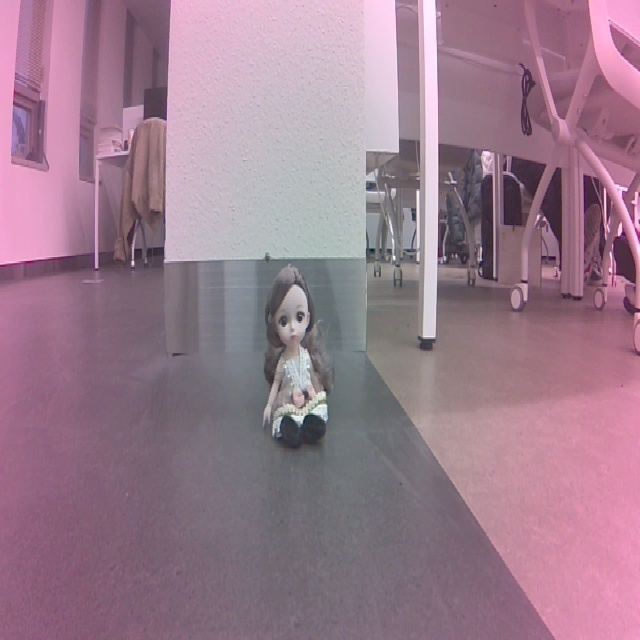장애물: (253, 257, 342, 454)
